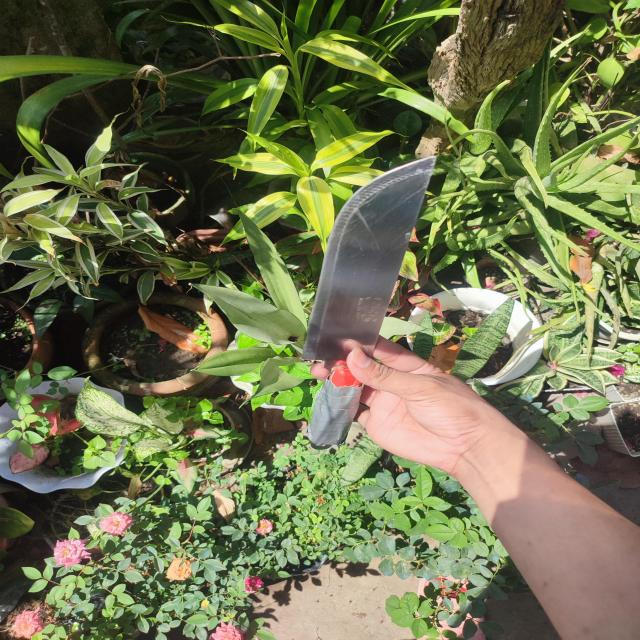knife: (294, 156, 435, 447)
